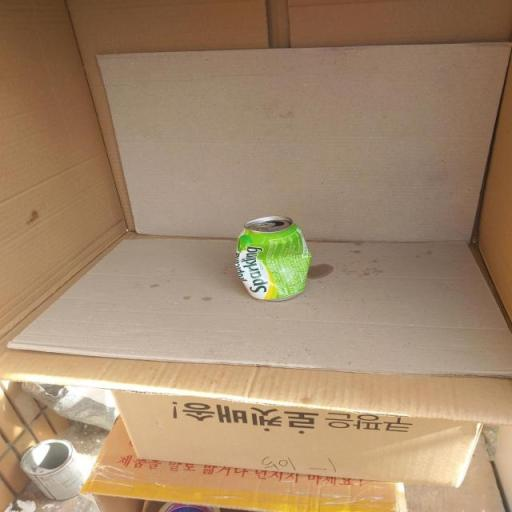metal: (173, 186, 361, 330)
